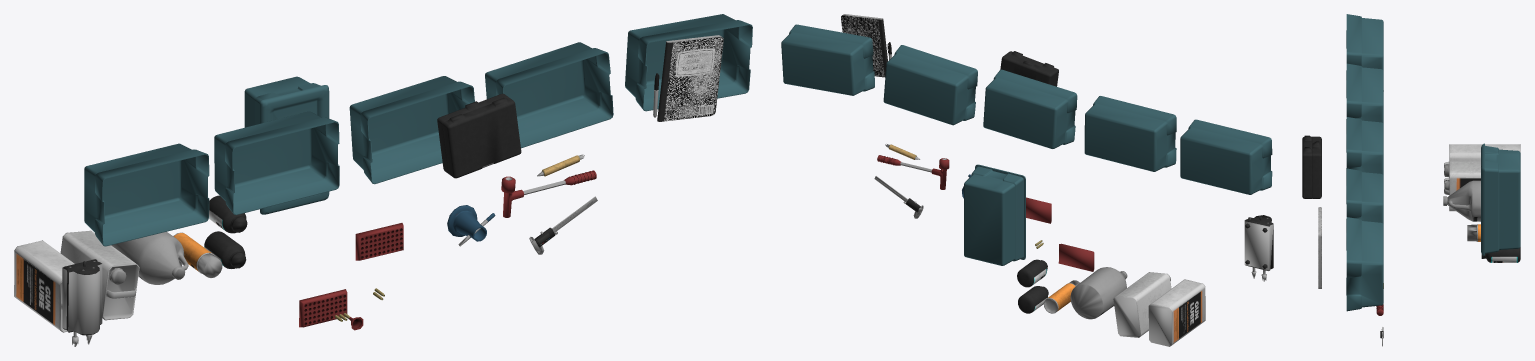
Rendered from tools.obj.
3 renders of one model, left to right at view 1: azimuth 30°, elevation 25°; view 2: azimuth 150°, elevation 25°; view 3: azimuth 270°, elevation 25°, orthographic. The views are drawn at different scales.
Parts seen in each view (by area): view 1: CardboardBox.003_ReloadingTools; view 2: CardboardBox.003_ReloadingTools; view 3: CardboardBox.003_ReloadingTools.
Boxes of the visible parts, x1=… form: CardboardBox.003_ReloadingTools: x1=14, y1=14, x2=752, y2=346; CardboardBox.003_ReloadingTools: x1=781, y1=14, x2=1273, y2=346; CardboardBox.003_ReloadingTools: x1=1302, y1=14, x2=1520, y2=346.
Bounding box in the file's own units: 2.23 × 0.7549 × 0.8166.
1 material, 1 textured.
